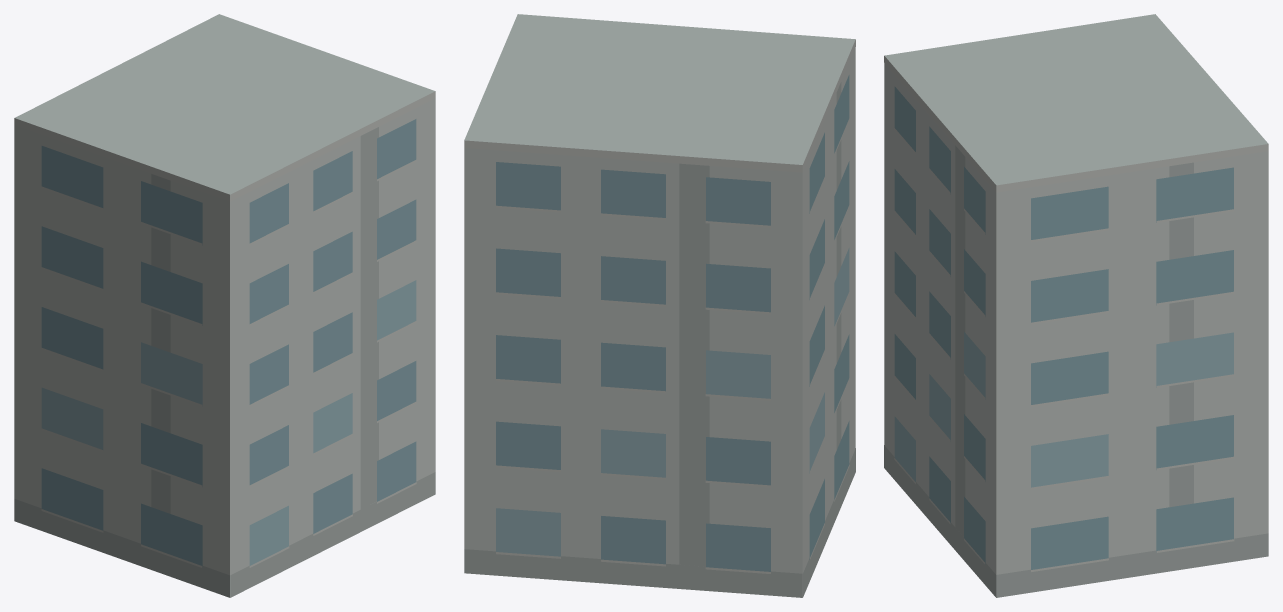
The model's file is survey-upis-32845793.glb.
3 renders of one model, left to right at view 1: azimuth 30°, elevation 25°; view 2: azimuth 150°, elevation 25°; view 3: azimuth 270°, elevation 25°, orthographic. The views are drawn at different scales.
Visible parts, largest first — view 1: survey-upis-32845793.tmp; view 2: survey-upis-32845793.tmp; view 3: survey-upis-32845793.tmp.
Boxes of the visible parts, x1=… form: survey-upis-32845793.tmp: x1=14, y1=14, x2=435, y2=597; survey-upis-32845793.tmp: x1=464, y1=14, x2=855, y2=597; survey-upis-32845793.tmp: x1=884, y1=14, x2=1268, y2=597.
Bounding box in the file's own units: 12.4 × 13.9 × 11.75.
